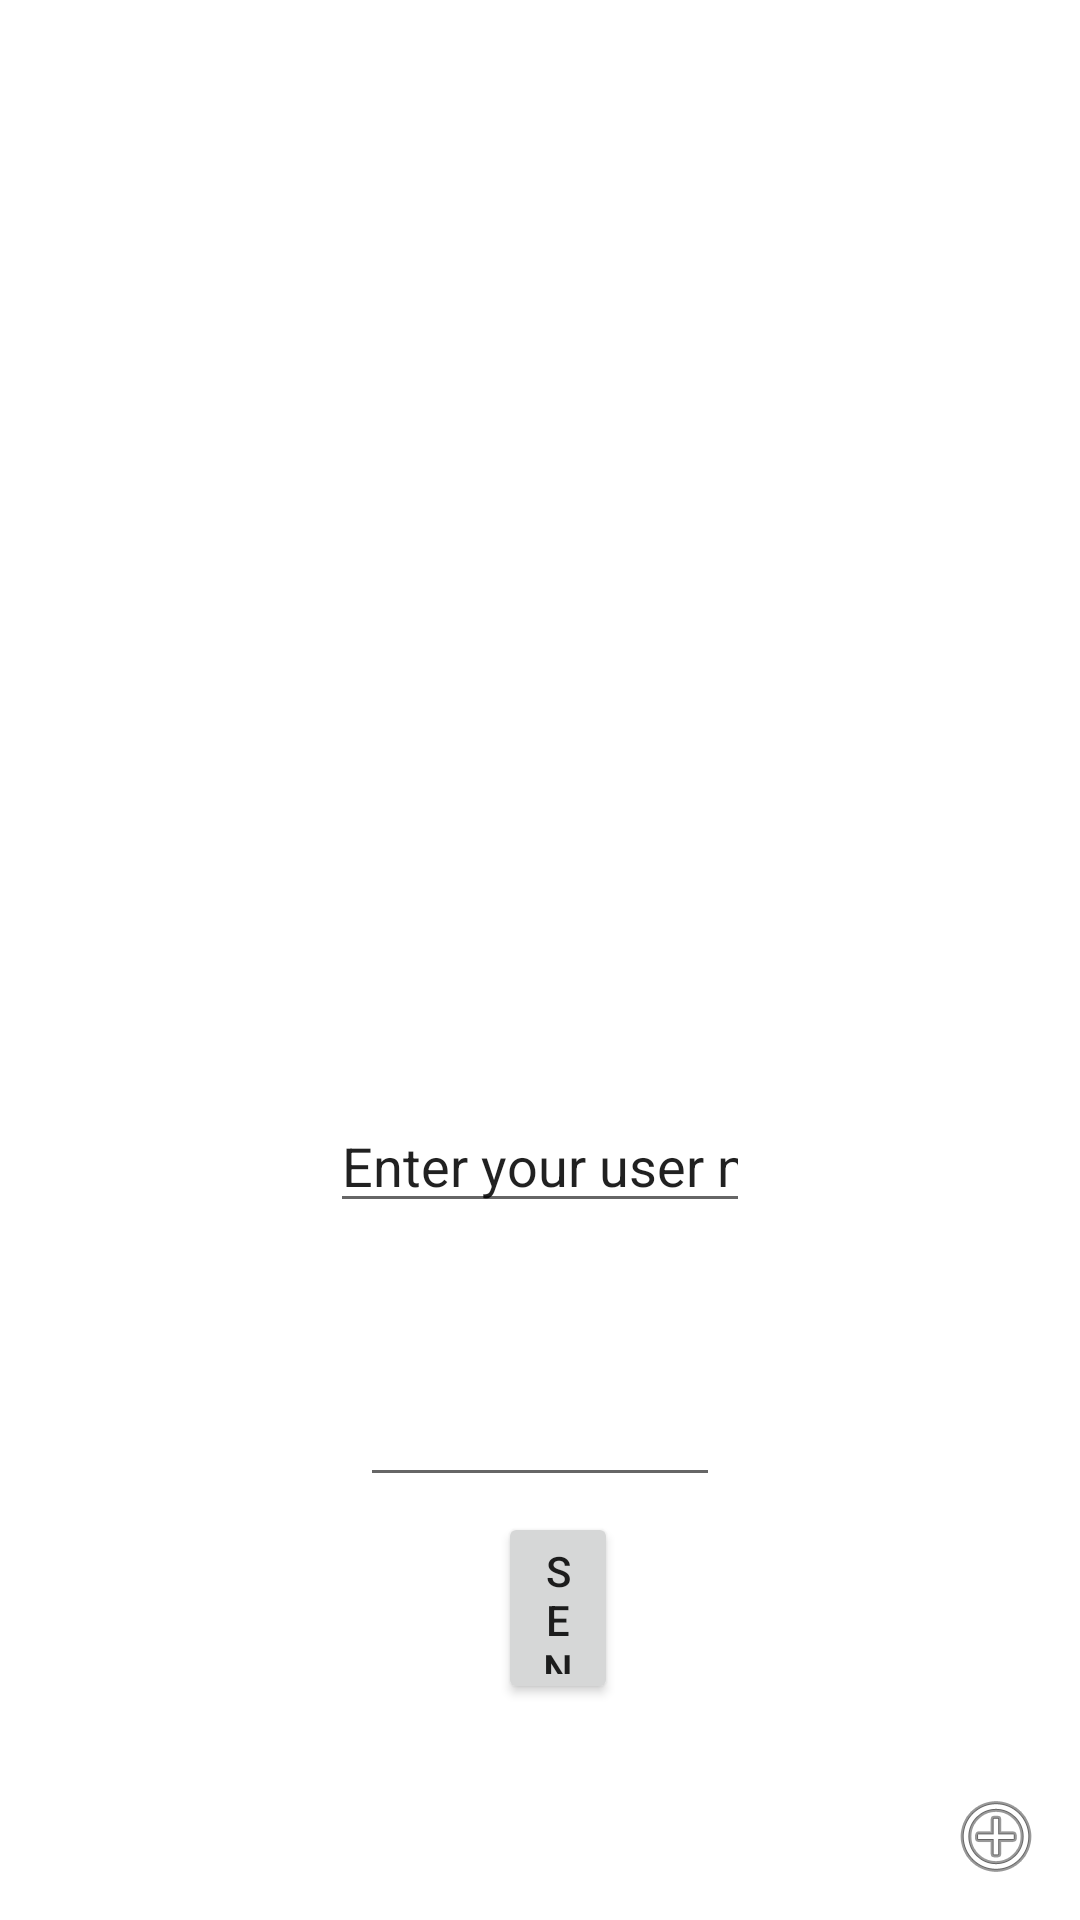

Named icons in this screenshot (1080 x 1920) and their centers, (x=x, y=y):
add: (x=996, y=1836)
